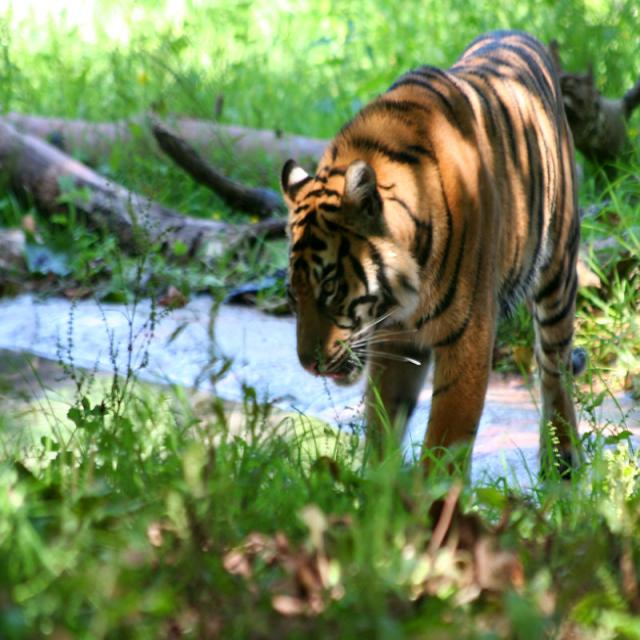Tiger: (274, 28, 590, 530)
